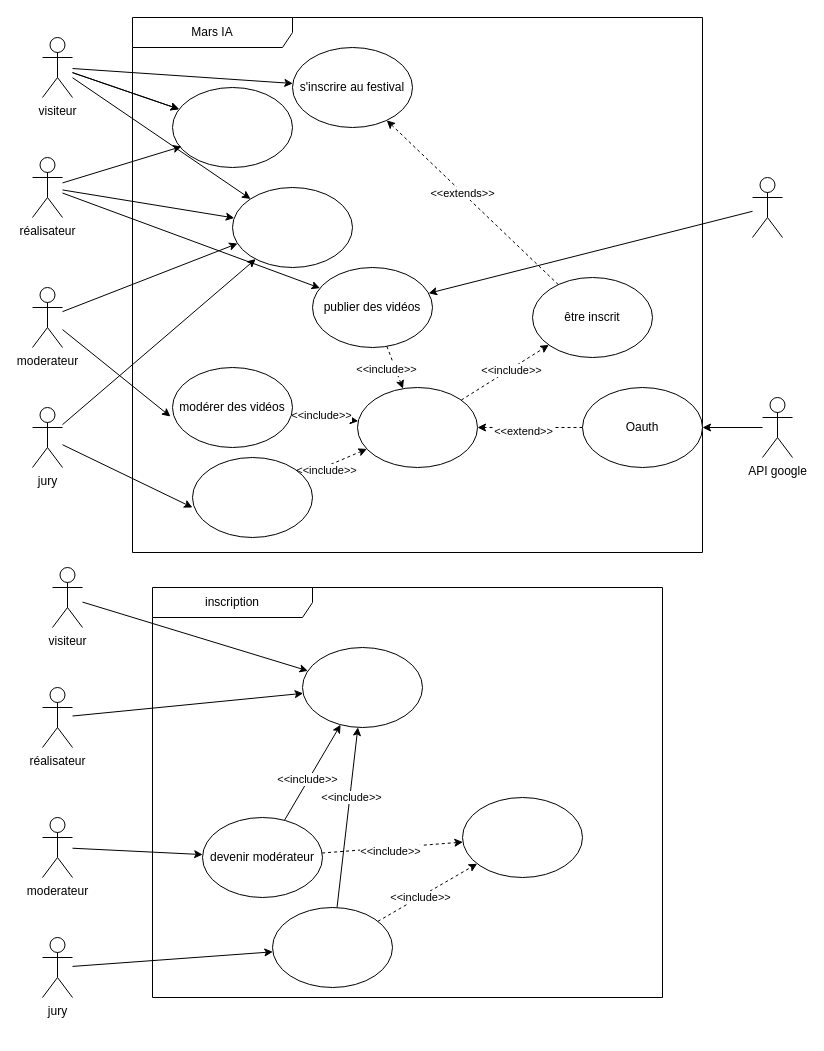
This 824x1051 diagram has some shape labels left out. Here are the shapes that lost their labels. From the top down, the centre of each, then its label:
the point at 232,127: regarde les info sur le festival
the point at 292,227: regarder les videos modérée
the point at 767,207: api youtube
the point at 417,427: se connecter
the point at 252,497: juger des videos
the point at 362,687: s'inscrire
the point at 522,837: se faire attribuer le rôle
the point at 332,947: devenir jury
